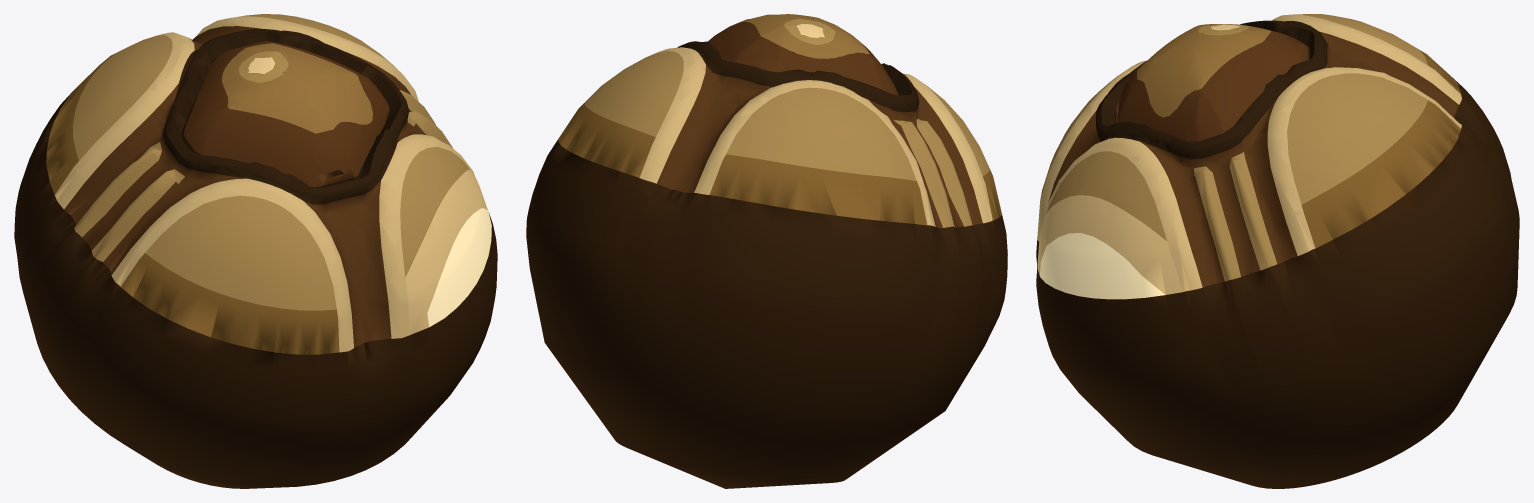
Rendered from sa_orb_tan.glb.
3 views of the same model, side by side, from view 1: azimuth 30°, elevation 25°; view 2: azimuth 150°, elevation 25°; view 3: azimuth 270°, elevation 25° (orthographic).
Parts seen in each view (by area): view 1: ball, gem; view 2: ball, gem; view 3: ball, gem.
Boxes of the visible parts, x1,y1,x2,y2 form: ball: (14,14,497,488); gem: (182,41,390,187); ball: (526,41,1007,488); gem: (707,14,898,95); ball: (1036,14,1519,488); gem: (1115,24,1310,141).
Size of the model in its own units: 23.9 by 24.26 by 24.58.
